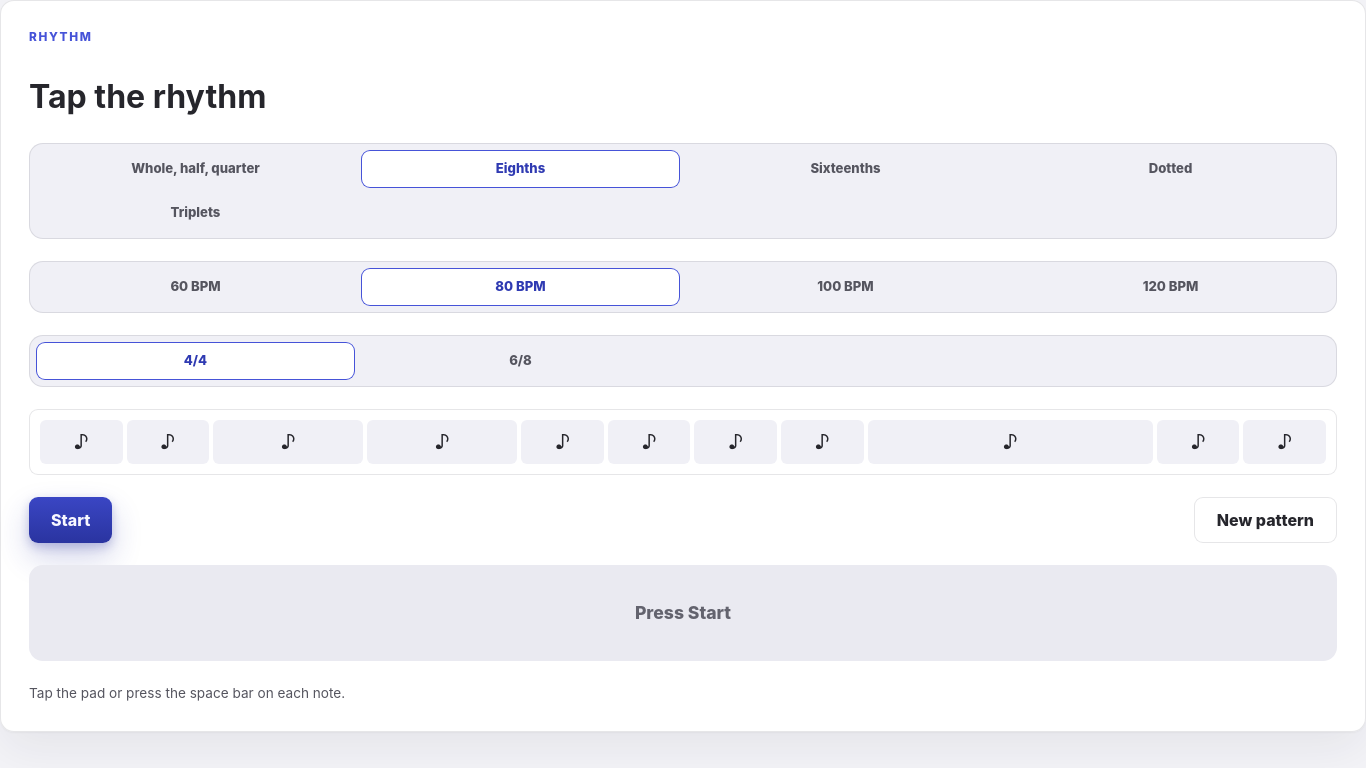
it: RhythmWorkspace › stops a running round
The image size is (1366, 768).
Step 1. Click the button "Start" → (71, 520), box [29, 497, 112, 543]
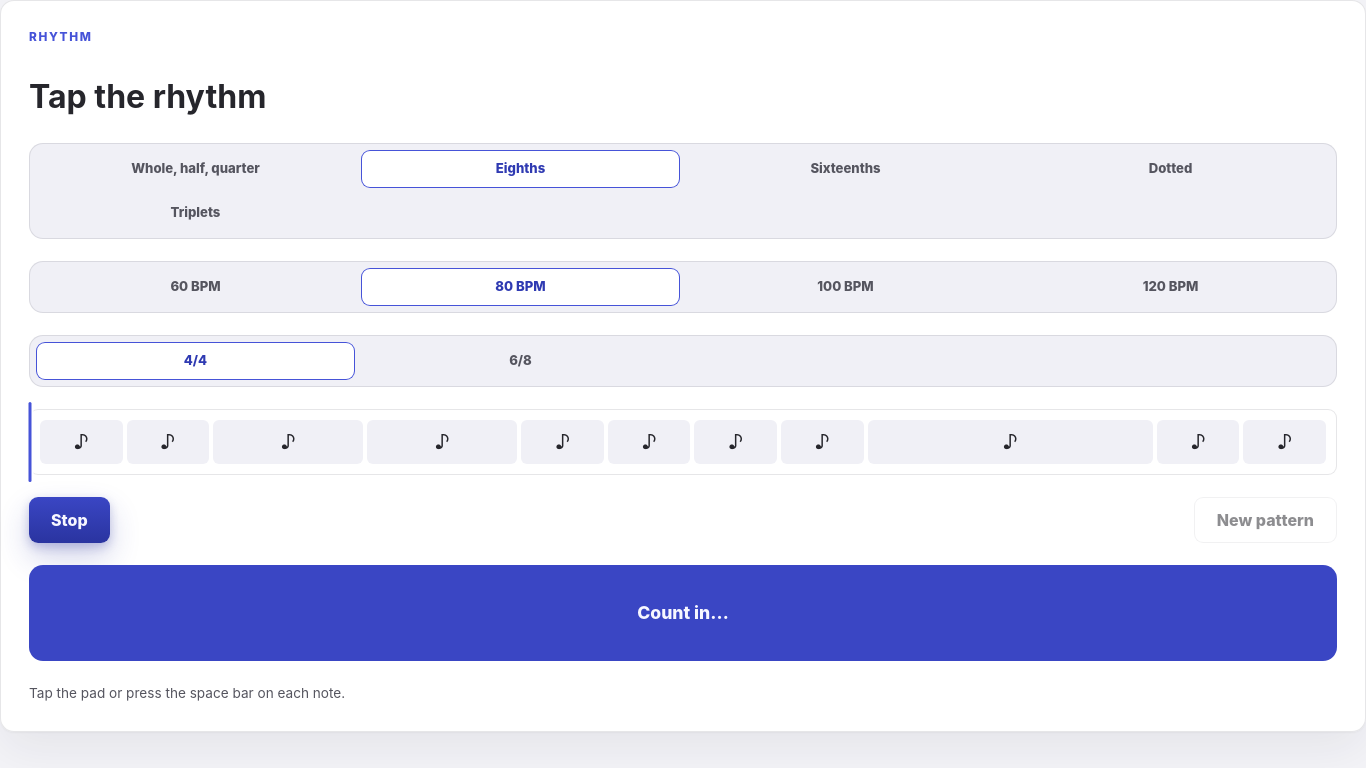
Step 2. Click the button "Stop" → (69, 520), box [29, 497, 110, 543]
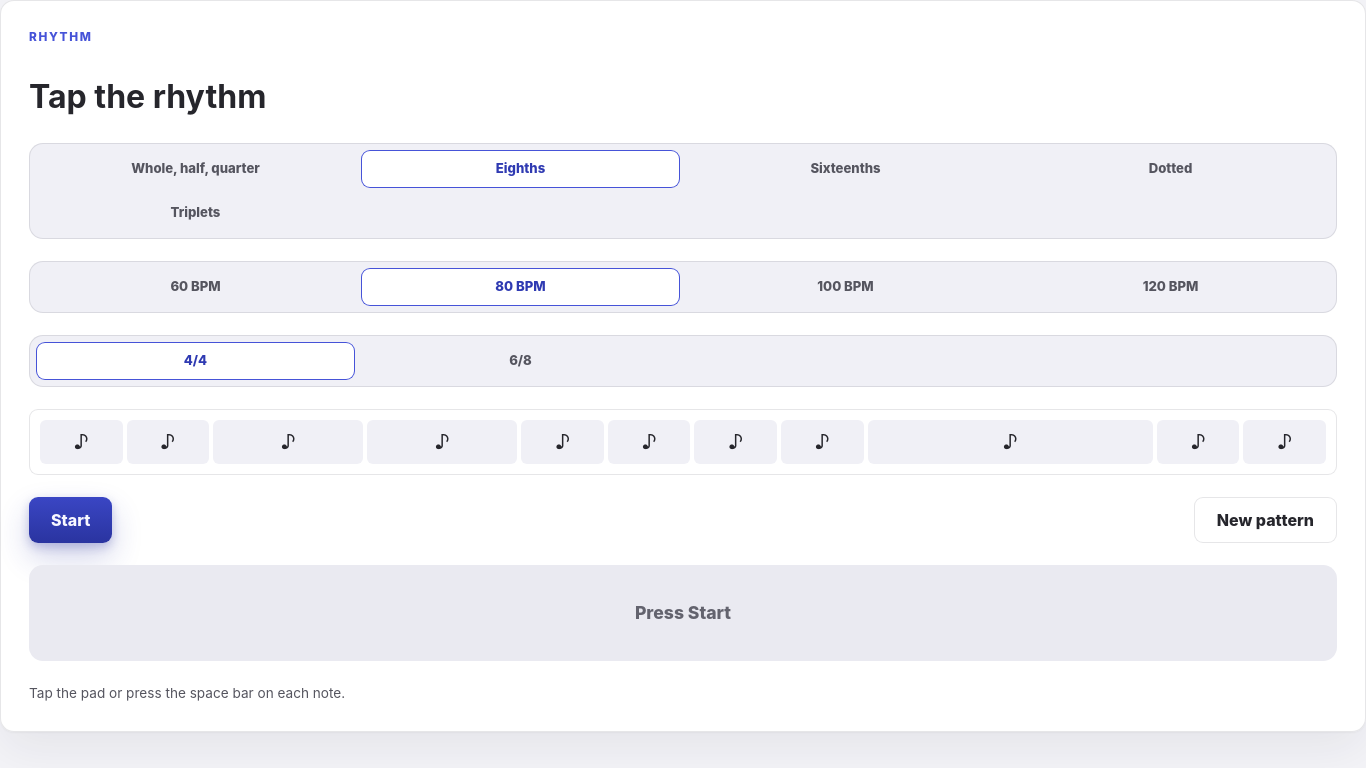
Expected: the button "Start" is shown, [29, 497, 112, 543]
Expected: the button with aria-label "Tap" is disabled, [29, 565, 1337, 661]
